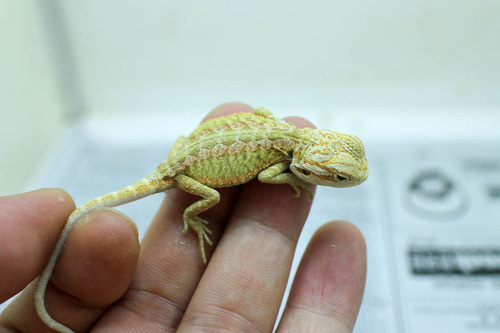bearded: (32, 110, 367, 333)
